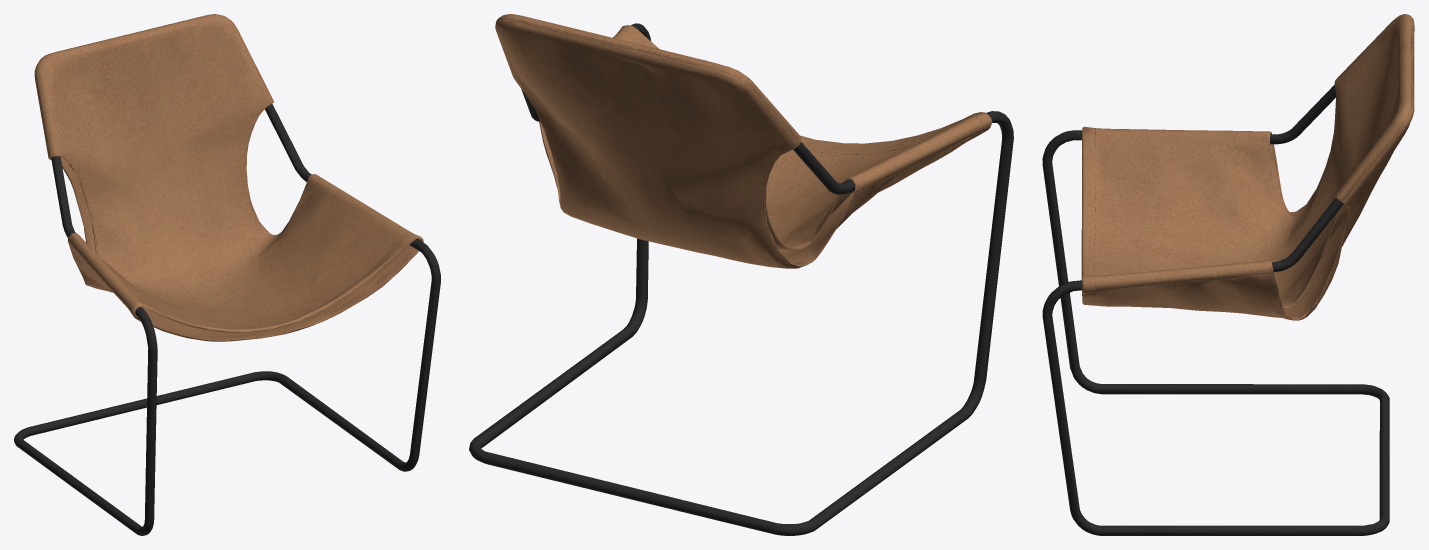
The picture shows the model from 3 angles, left to right: view 1: azimuth 30°, elevation 25°; view 2: azimuth 150°, elevation 25°; view 3: azimuth 270°, elevation 25°; orthographic projection. The views are drawn at different scales.
Visible parts, largest first — view 1: Seat, Legs; view 2: Seat, Legs, Stitches; view 3: Seat, Legs, Stitches.
Boxes of the visible parts, x1,y1,x2,y2 form: Seat: (34,14,423,341); Legs: (14,103,440,535); Seat: (495,14,992,268); Legs: (469,23,1013,535); Stitches: (495,17,982,267); Seat: (1081,14,1414,320); Legs: (1042,85,1389,535); Stitches: (1094,20,1413,320).
Size of the model in its own units: 0.6977 by 0.838 by 0.6977.
3 materials, 2 textured.
